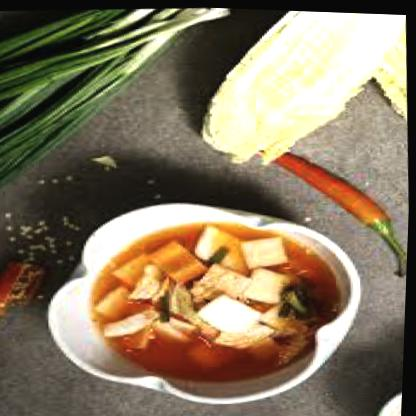nabak Kimchi: (93, 211, 349, 388)
